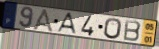4: (81, 15, 95, 37)
9: (19, 6, 35, 30)
A: (31, 8, 55, 34), (56, 12, 78, 36)
B: (122, 19, 142, 43)
O: (103, 17, 123, 41)
